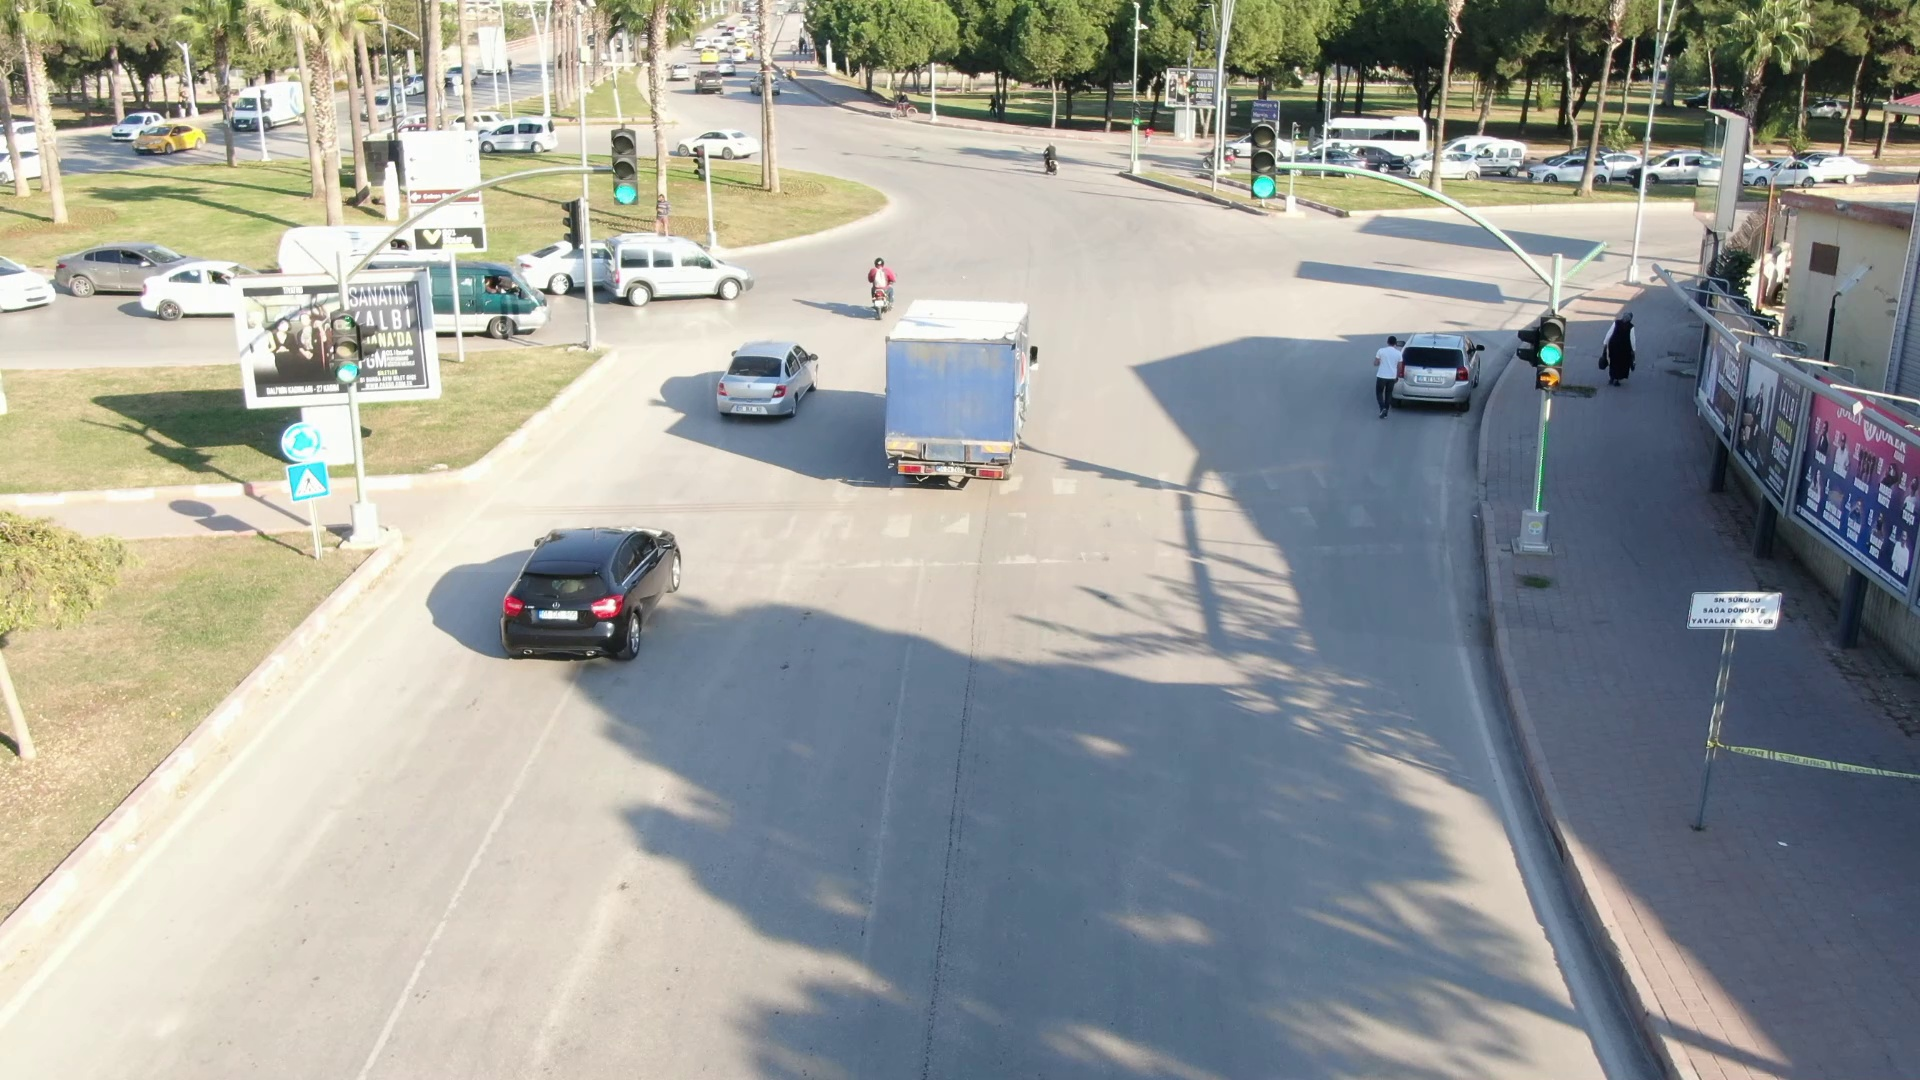car: (498, 499, 697, 682), (595, 220, 765, 313), (709, 329, 830, 432), (54, 223, 207, 303), (435, 250, 555, 343), (108, 99, 202, 162), (227, 81, 325, 141), (477, 104, 564, 155), (1521, 150, 1627, 191)
person: (1594, 307, 1650, 391), (1362, 329, 1408, 422)
